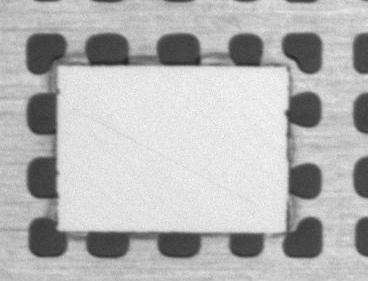DIE_CRACK: (94, 82, 334, 156)
